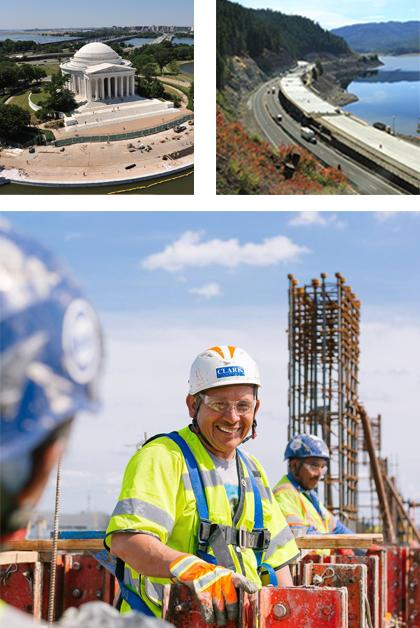helmet: (186, 345, 264, 397), (281, 434, 333, 463)
